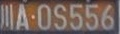A: (16, 4, 29, 30)
